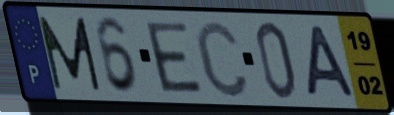0: (253, 19, 299, 102)
6: (94, 14, 139, 97)
A: (305, 23, 359, 101)
C: (192, 17, 253, 100)
E: (142, 20, 206, 96)
M: (35, 14, 104, 93)
